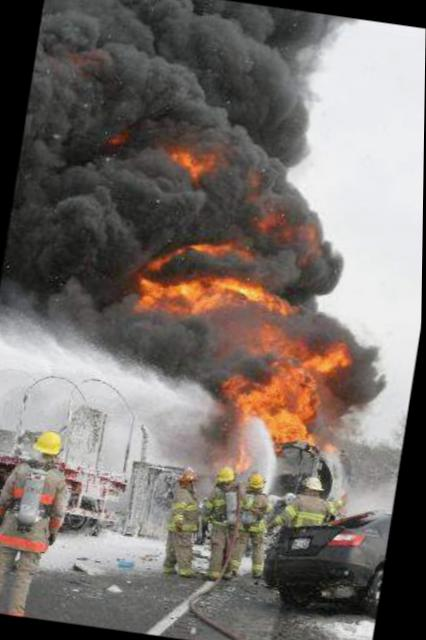fire: (90, 94, 396, 498)
